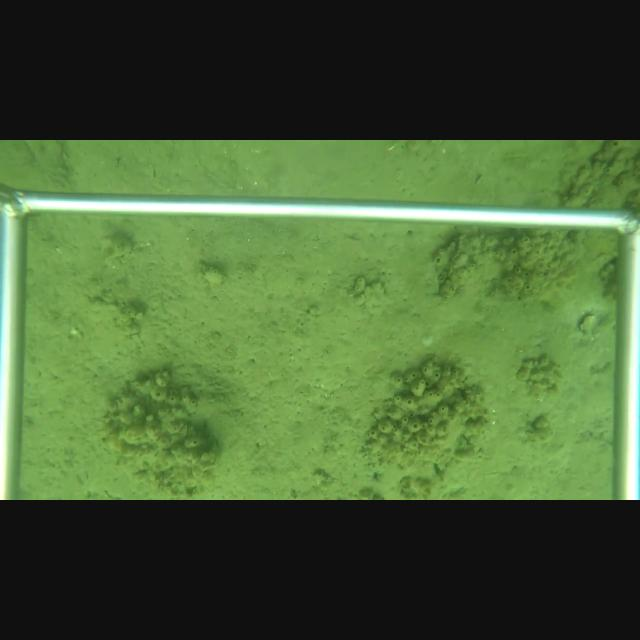Oyster-Closed: (454, 234, 464, 260), (182, 421, 194, 439)
